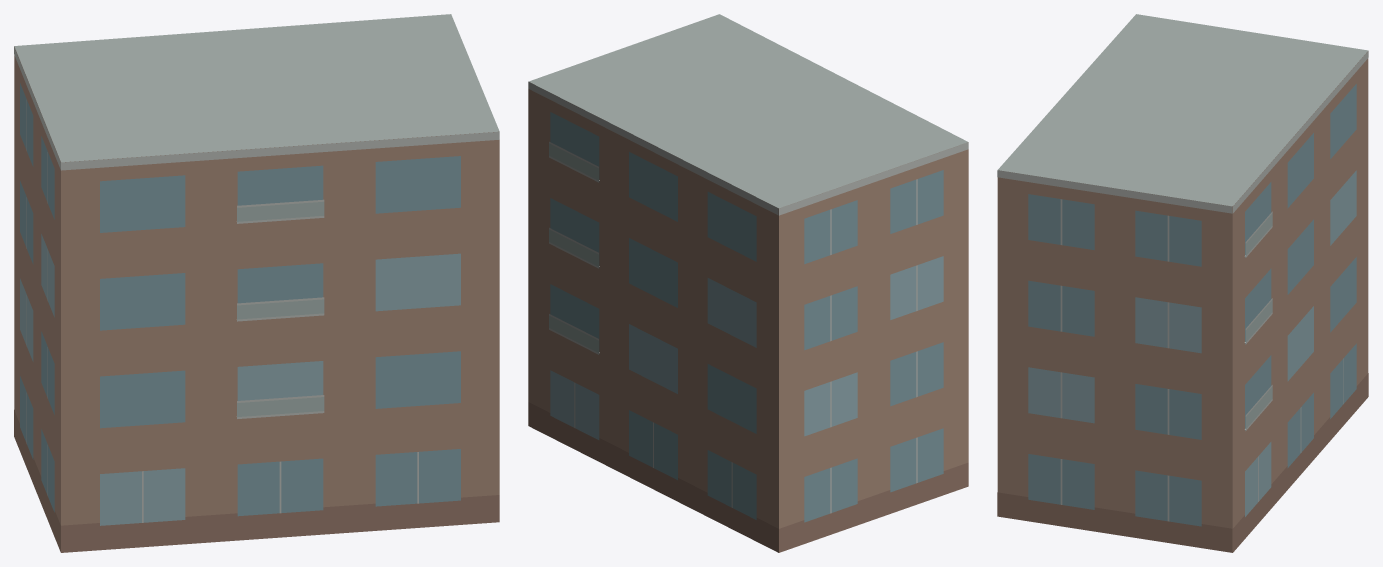
The model's file is survey-upis-32537051.glb.
The picture shows the model from 3 angles, left to right: view 1: azimuth 30°, elevation 25°; view 2: azimuth 150°, elevation 25°; view 3: azimuth 270°, elevation 25°; orthographic projection. The views are drawn at different scales.
Parts seen in each view (by area): view 1: survey-upis-32537051.tmp; view 2: survey-upis-32537051.tmp; view 3: survey-upis-32537051.tmp.
Part boxes in pixels (x1=…): survey-upis-32537051.tmp: x1=14, y1=14, x2=499, y2=552; survey-upis-32537051.tmp: x1=528, y1=14, x2=968, y2=552; survey-upis-32537051.tmp: x1=997, y1=14, x2=1368, y2=552.
Size of the model in its own units: 13.95 by 11.7 by 11.37.
